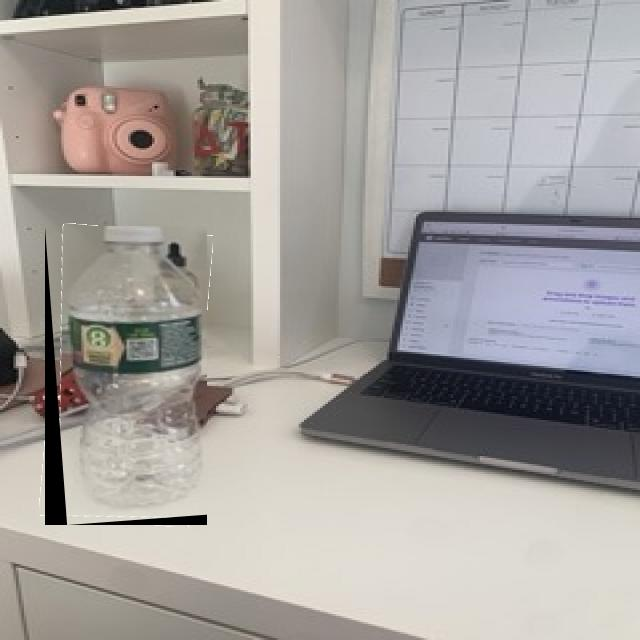water_bottle: (46, 226, 208, 525)
